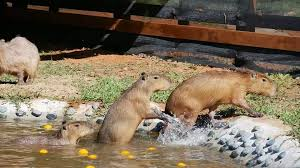capivara: (164, 69, 279, 128), (95, 71, 171, 148), (13, 121, 97, 148), (1, 34, 41, 85)
